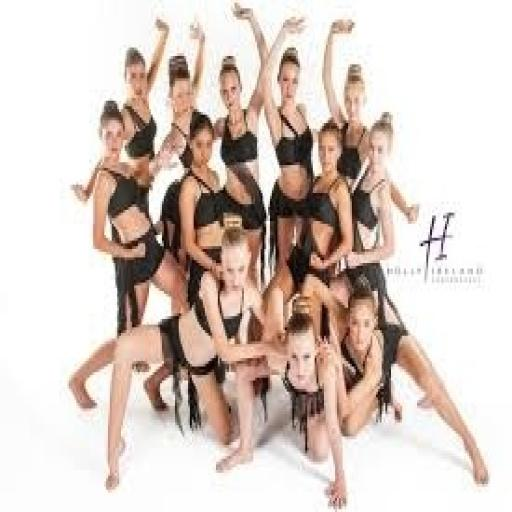dancing: (65, 3, 492, 506)
